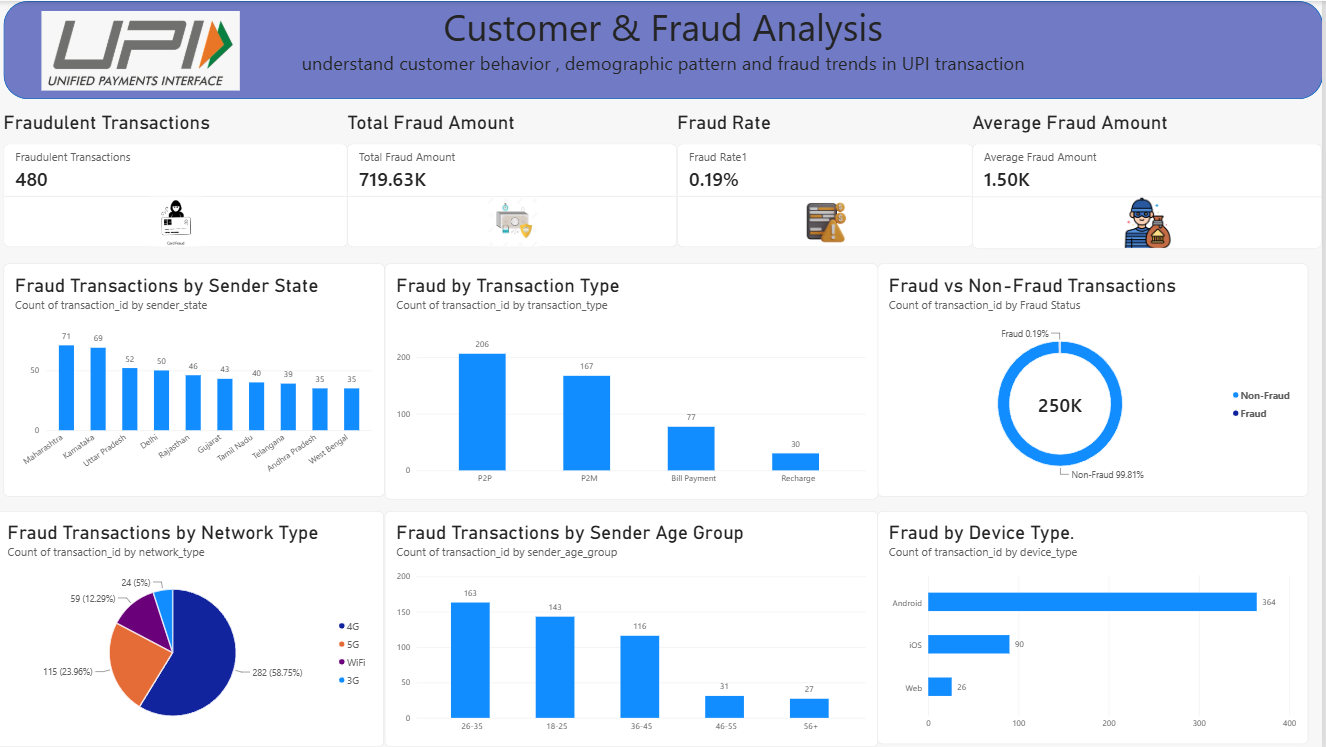

The page's visual inventory and layout, read from the dashboard file:
{"tool":"powerbi","page":{"name":"Page 3","canvas":[1920,1080],"ordinal":2},"visuals":[{"type":"shape","box":[10.3,0,1910.1,142],"z":0},{"type":"textbox","box":[10.3,0,1910.1,117.3],"z":1},{"type":"image","box":[37,14.4,345.8,115.3],"z":2},{"type":"cardVisual","title":"Fraudulent Transactions","fields":{"Data":["upi_transaction_analytic_project.Fraudulent Transactions"]},"box":[10.9,159.3,498.1,197.6],"z":4},{"type":"cardVisual","title":"Fraud Rate","fields":{"Data":["upi_transaction_analytic_project.Fraud Rate1"]},"box":[986.3,159.3,428.1,197.6],"z":5},{"type":"cardVisual","title":"Total Fraud Amount","fields":{"Data":["upi_transaction_analytic_project.Total Fraud Amount"]},"box":[508.5,159.3,477.5,197.6],"z":6},{"type":"cardVisual","title":"Average Fraud Amount","fields":{"Data":["upi_transaction_analytic_project.Average Fraud Amount"]},"box":[1413.3,159.3,506.3,199.7],"z":7},{"type":"donutChart","title":"Fraud vs Non-Fraud Transactions","fields":{"Category":["upi_transaction_analytic_project.Fraud Status"],"Y":["CountNonNull(upi_transaction_analytic_project.transaction_id)"]},"box":[1276.2,380.8,623.7,337.6],"z":8},{"type":"clusteredColumnChart","title":"Fraud Transactions by Sender Age Group","fields":{"Category":["upi_transaction_analytic_project.sender_age_group"],"Y":["CountNonNull(upi_transaction_analytic_project.transaction_id)"]},"box":[561.9,738.9,714.2,341.7],"z":9},{"type":"clusteredColumnChart","title":"Fraud by Transaction Type","fields":{"Category":["upi_transaction_analytic_project.transaction_type"],"Y":["CountNonNull(upi_transaction_analytic_project.transaction_id)"]},"box":[561.9,380.8,714.2,341.7],"z":10},{"type":"clusteredBarChart","title":"Fraud by Device Type.","fields":{"Category":["upi_transaction_analytic_project.device_type"],"Y":["CountNonNull(upi_transaction_analytic_project.transaction_id)"]},"box":[1276.2,738.9,623.7,337.6],"z":11},{"type":"pieChart","title":"Fraud Transactions by Network Type","fields":{"Category":["upi_transaction_analytic_project.network_type"],"Y":["CountNonNull(upi_transaction_analytic_project.transaction_id)"]},"box":[0,738.9,561.9,341.7],"z":12},{"type":"clusteredColumnChart","title":"Fraud Transactions by Sender State","fields":{"Category":["upi_transaction_analytic_project.sender_state"],"Y":["CountNonNull(upi_transaction_analytic_project.transaction_id)"]},"box":[10.3,380.8,551.6,337.6],"z":13}]}

Visuals, with their boxes in screenshot pixels (x1, y1, x2, y2), scaled from the page's 1920x1080 canvas onto the 1326x747 screenshot:
shape: 7/0/1325/98
textbox: 7/0/1325/81
image: 26/10/264/90
"Fraudulent Transactions" cardVisual: 8/110/352/247
"Fraud Rate" cardVisual: 681/110/977/247
"Total Fraud Amount" cardVisual: 351/110/681/247
"Average Fraud Amount" cardVisual: 976/110/1325/248
"Fraud vs Non-Fraud Transactions" donutChart: 881/263/1312/497
"Fraud Transactions by Sender Age Group" clusteredColumnChart: 388/511/881/746
"Fraud by Transaction Type" clusteredColumnChart: 388/263/881/500
"Fraud by Device Type." clusteredBarChart: 881/511/1312/745
"Fraud Transactions by Network Type" pieChart: 0/511/388/746
"Fraud Transactions by Sender State" clusteredColumnChart: 7/263/388/497
